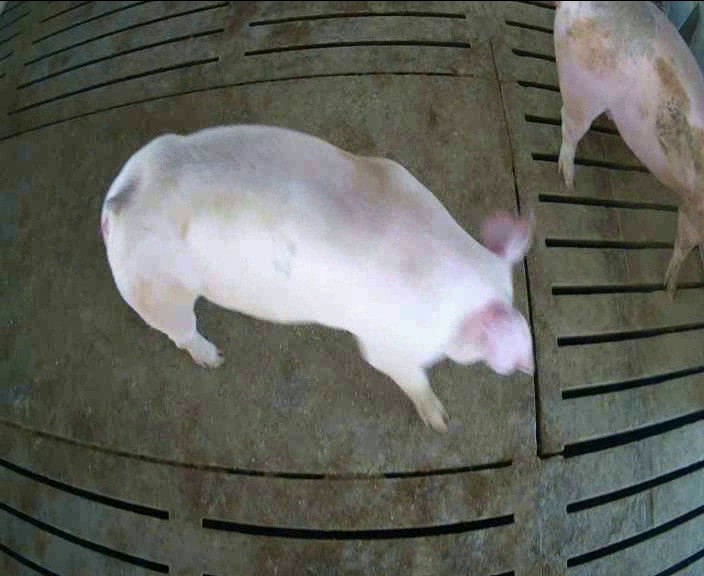pig: (101, 126, 532, 431), (554, 2, 703, 298)
